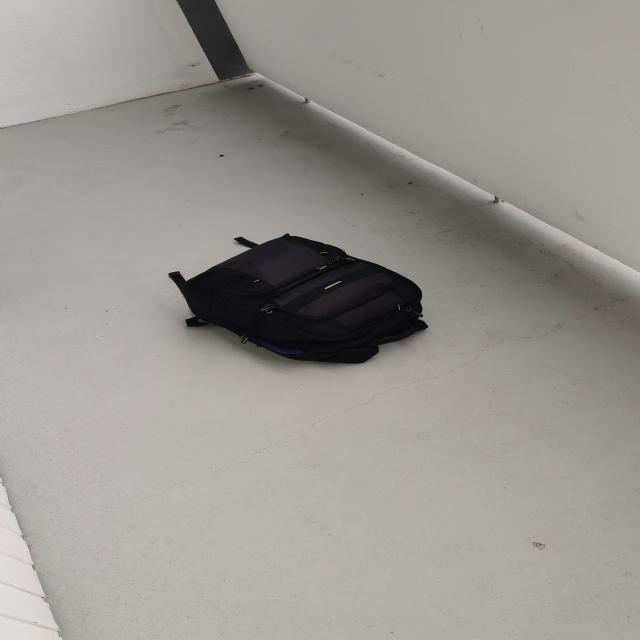backpack: (169, 226, 436, 370)
